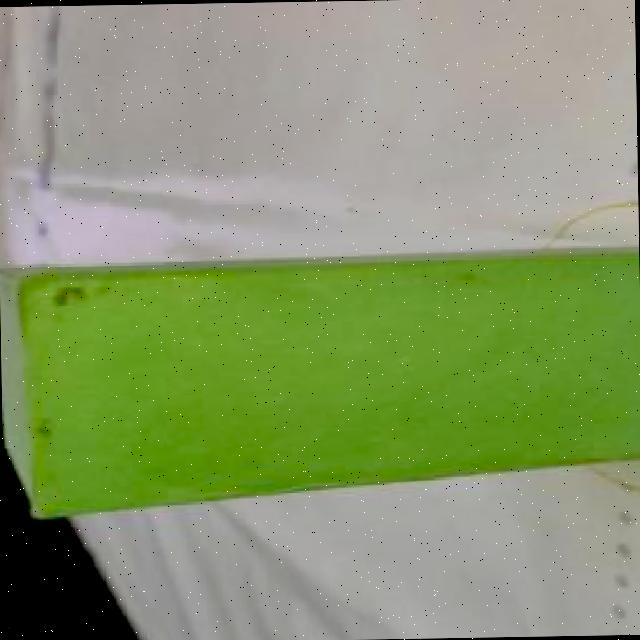greenbox: (0, 241, 640, 518)
